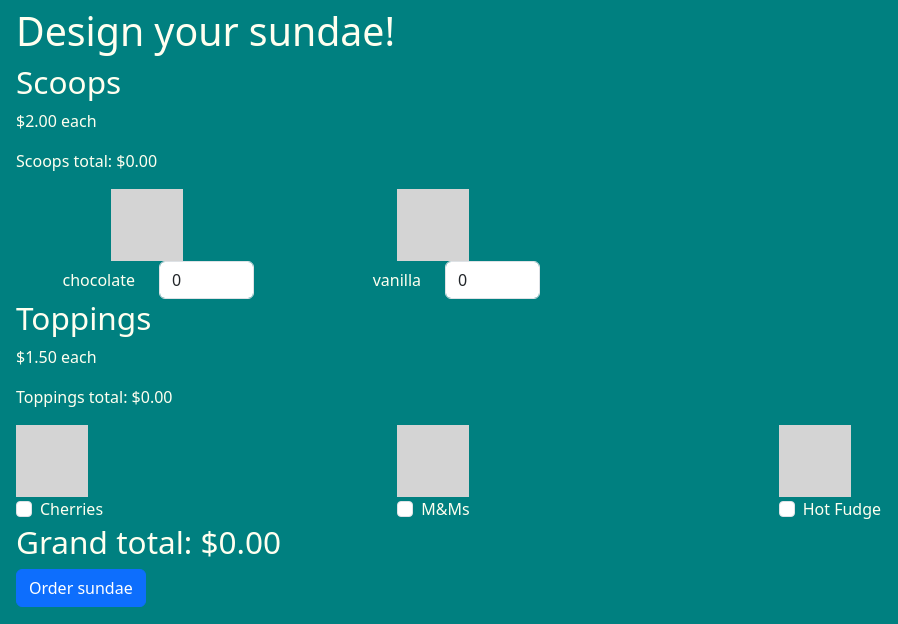
grand total › updates properly if an item is removed
Click the checkbox labelled "M&Ms" at (405, 509), box [397,501,413,517]
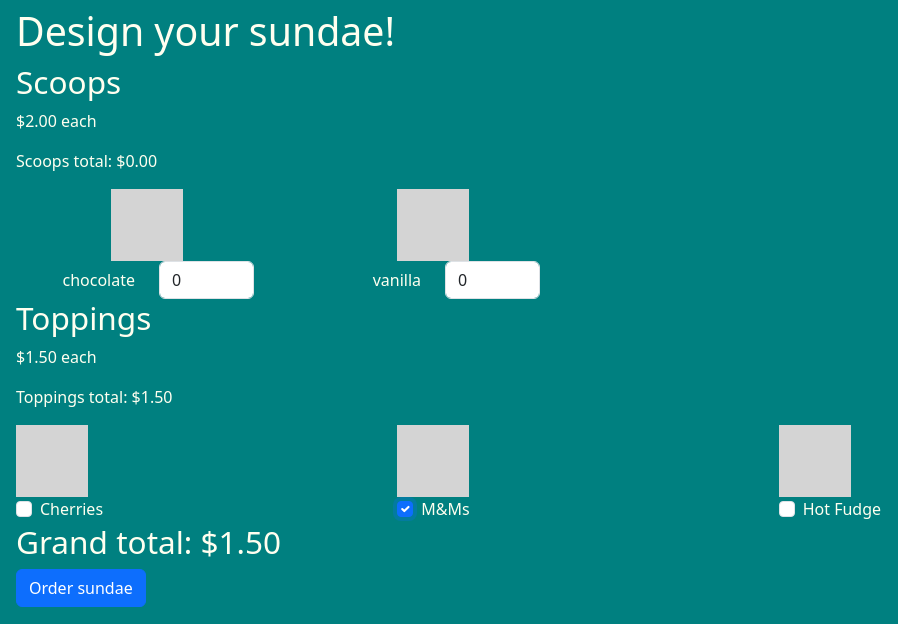
Click the checkbox labelled "Cherries" at (24, 509), box [16,501,32,517]
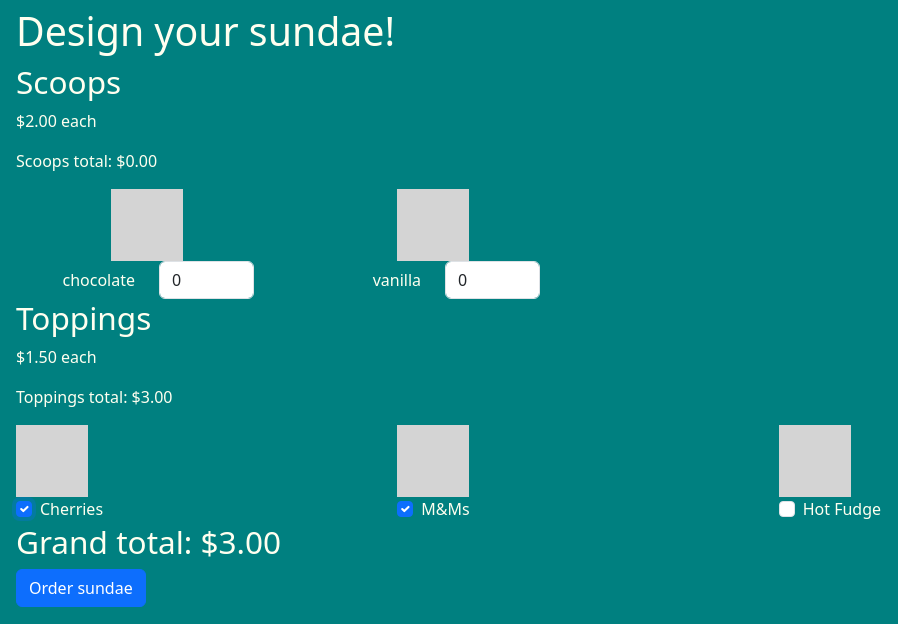
Replace the text in the number field labelled "chocolate" with "1" at (207, 280), box [159,261,254,299]
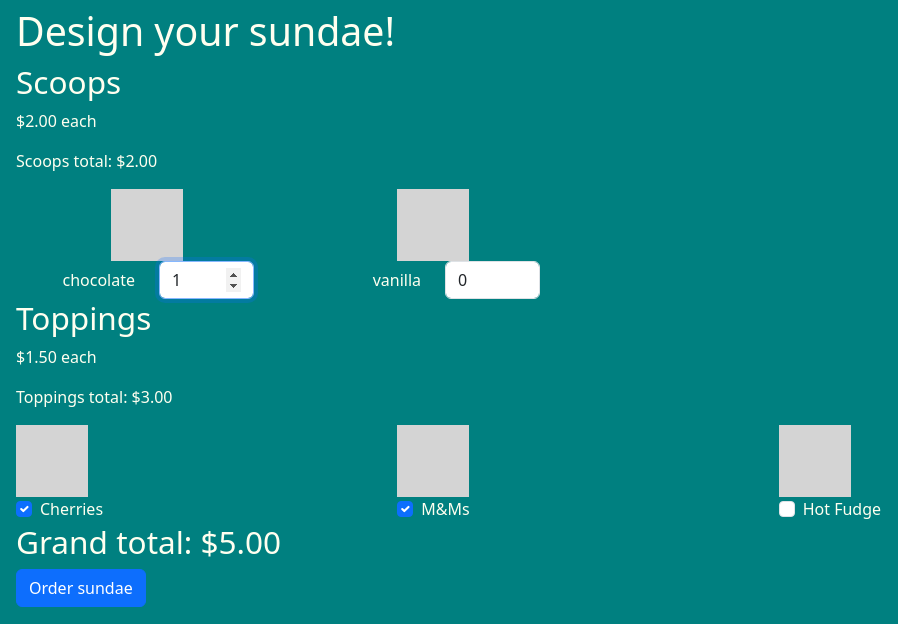
Type "1" into the number field labelled "vanilla" at (493, 280), box [445,261,540,299]
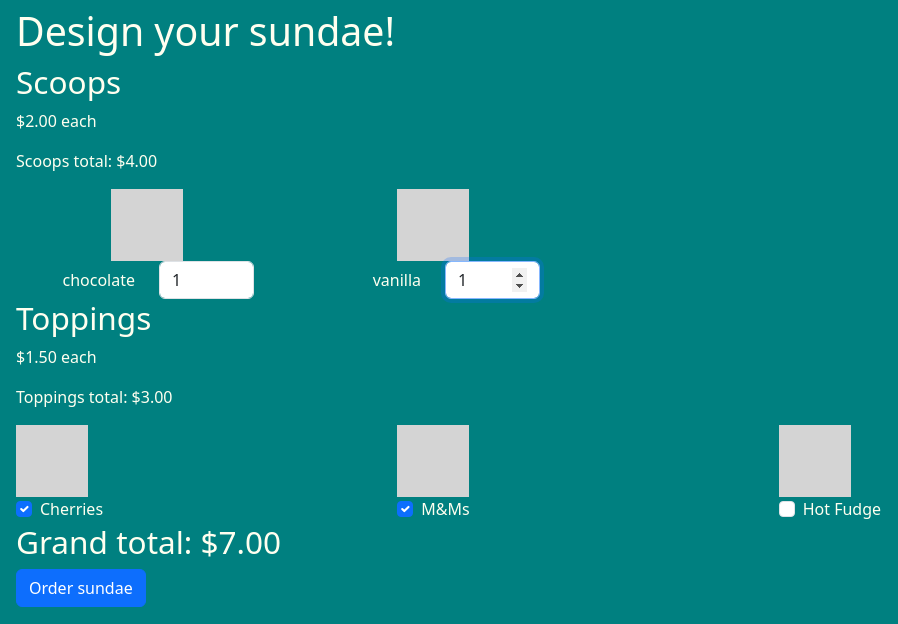
Now the heading "Grand total: $7.00" is shown, box [16,520,281,563]
Click the checkbox labelled "Cherries" at (24, 509), box [16,501,32,517]
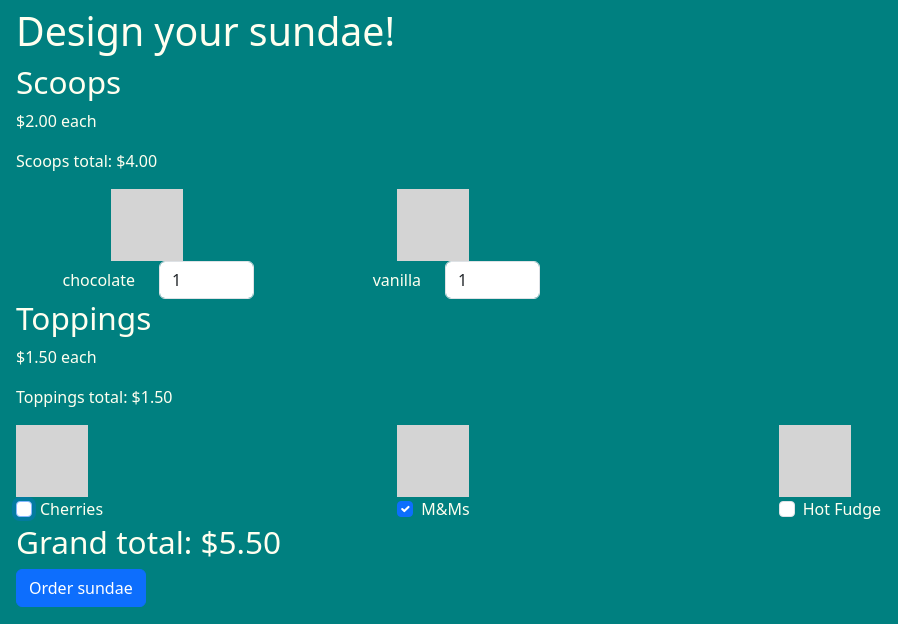
Now the heading "Grand total: $5.50" is shown, box [16,520,281,563]
Replace the text in the number field labelled "chocolate" with "0" at (207, 280), box [159,261,254,299]
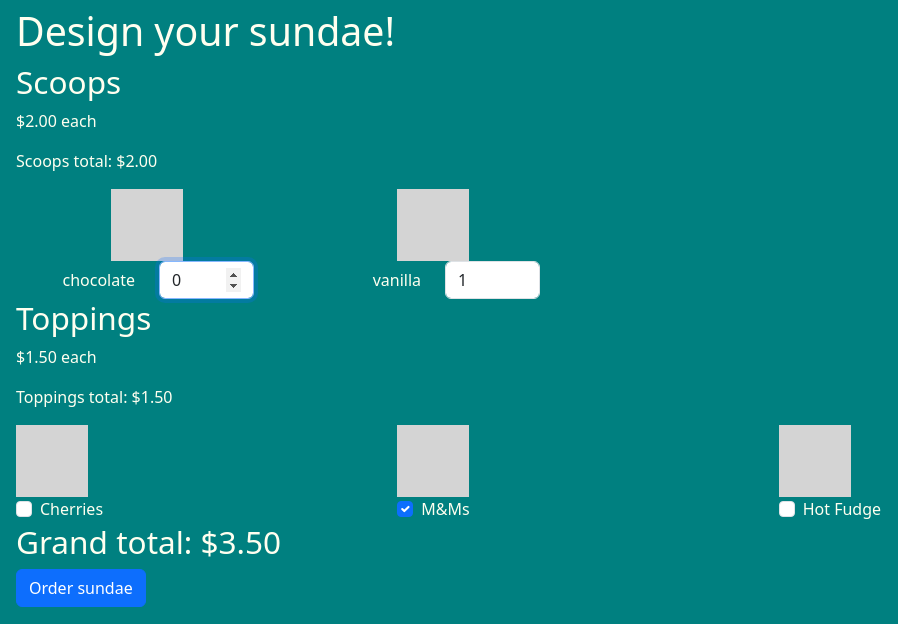
Now the heading "Grand total: $3.50" is shown, box [16,520,281,563]
